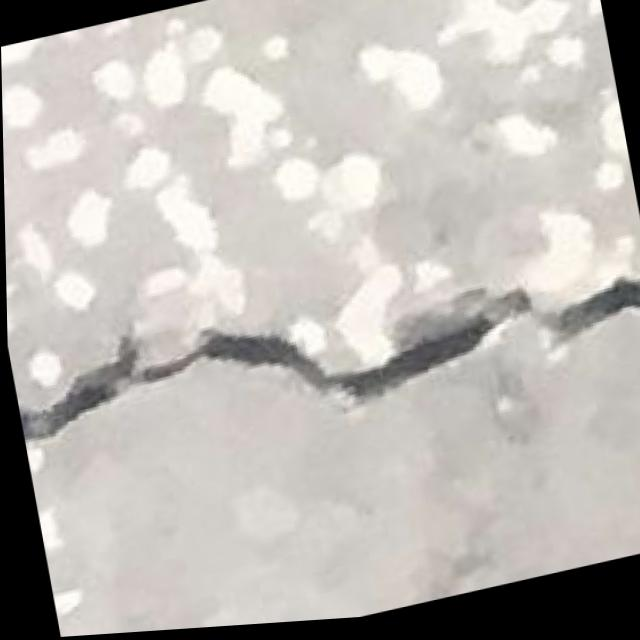Crack: (8, 220, 640, 487)
